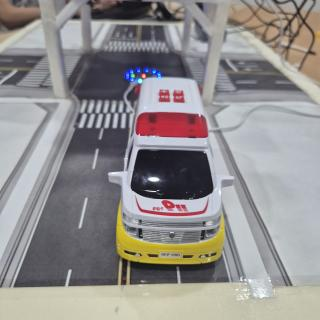Ambulance: (108, 77, 234, 264)
